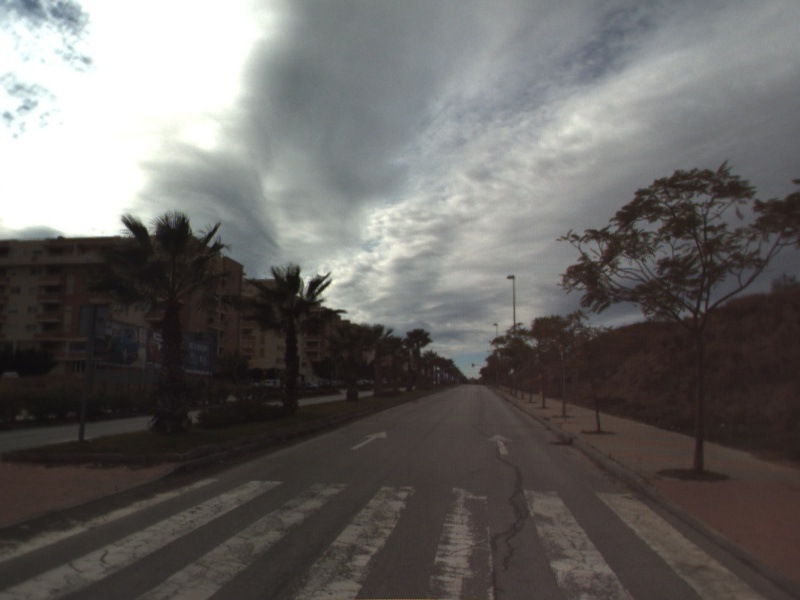STRAIGHT: (348, 429, 389, 452), (485, 432, 515, 456)
